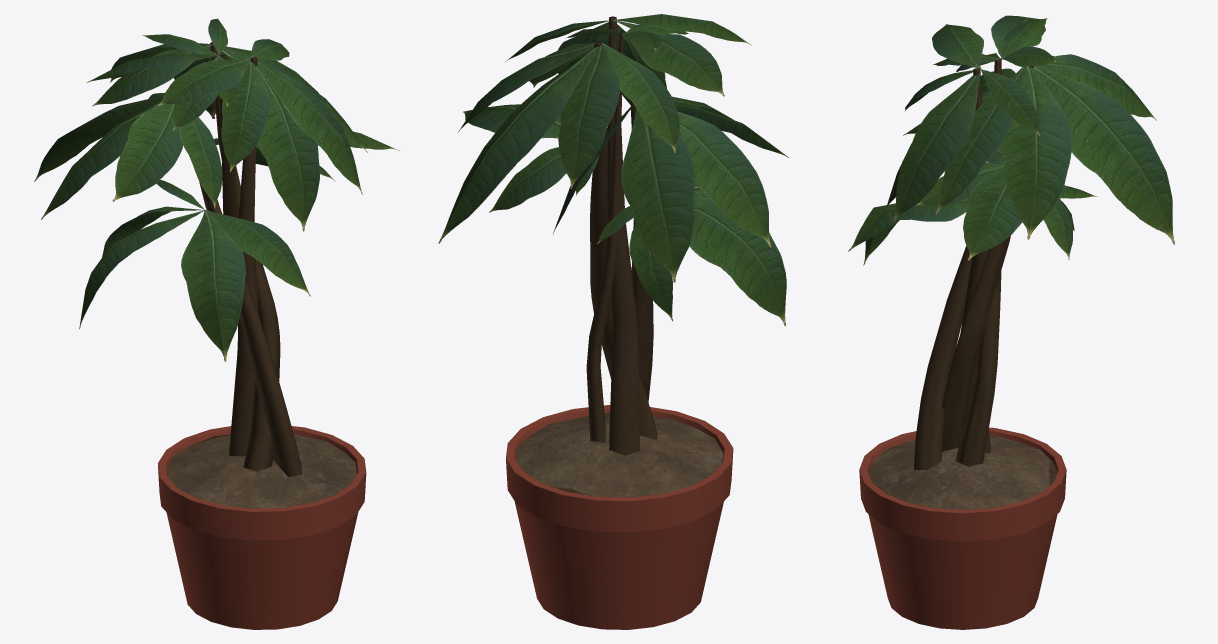
Rendered from Indoor_plant_02.fbx.
The picture shows the model from 3 angles, left to right: view 1: azimuth 30°, elevation 25°; view 2: azimuth 150°, elevation 25°; view 3: azimuth 270°, elevation 25°; orthographic projection. The views are drawn at different scales.
Parts seen in each view (by area): view 1: polySurface7; view 2: polySurface7; view 3: polySurface7.
Boxes of the visible parts, x1,y1,x2,y2 form: polySurface7: [34, 18, 399, 629]; polySurface7: [438, 14, 788, 629]; polySurface7: [848, 15, 1174, 629].
Bounding box in the file's own units: 93.91 × 152 × 91.96.
Materials: 1 (1 with a texture image).
